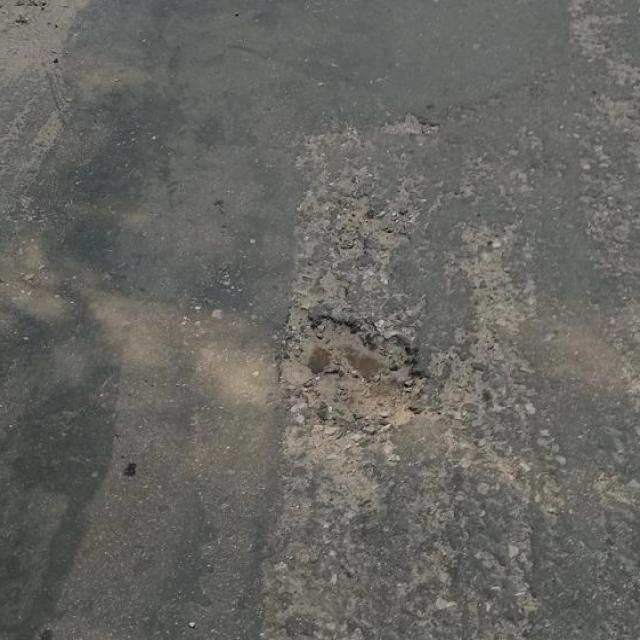road-pothole: (285, 120, 451, 437)
